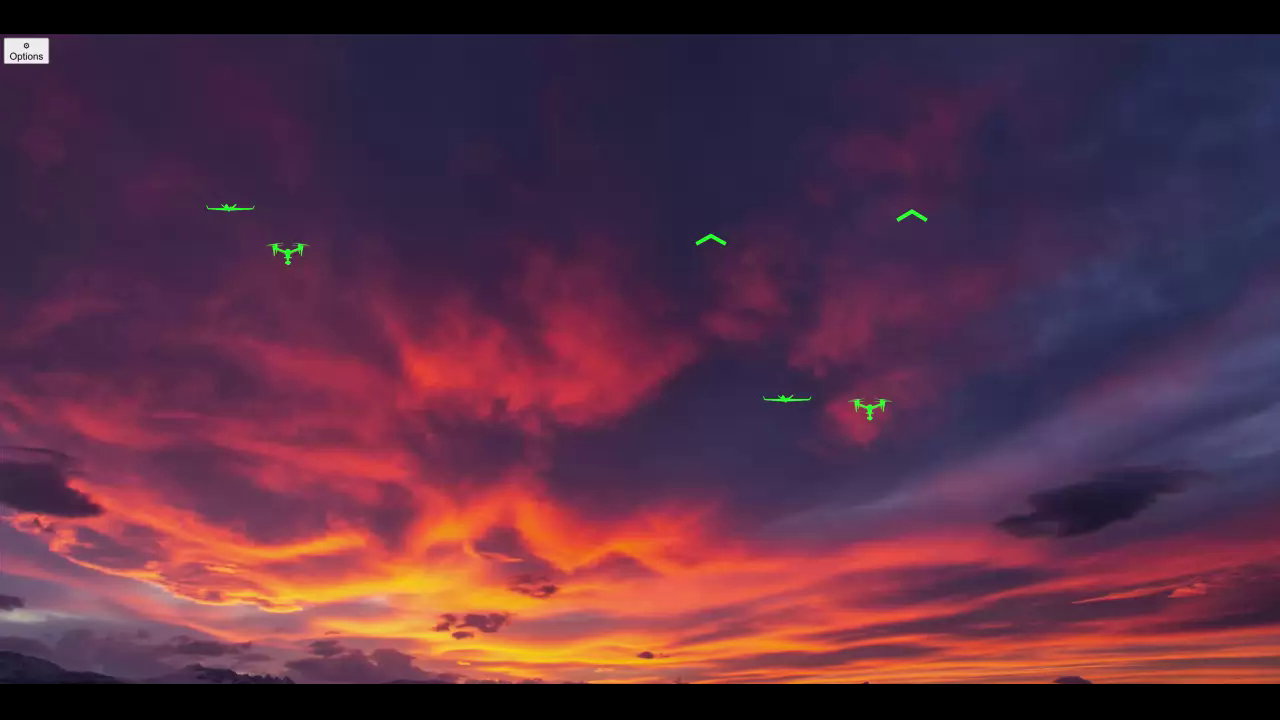Bird: (679, 217, 740, 258), (881, 193, 943, 231)
Drone: (188, 181, 273, 231), (752, 378, 821, 422)
Quadcopter: (252, 228, 324, 273), (840, 387, 901, 430)
